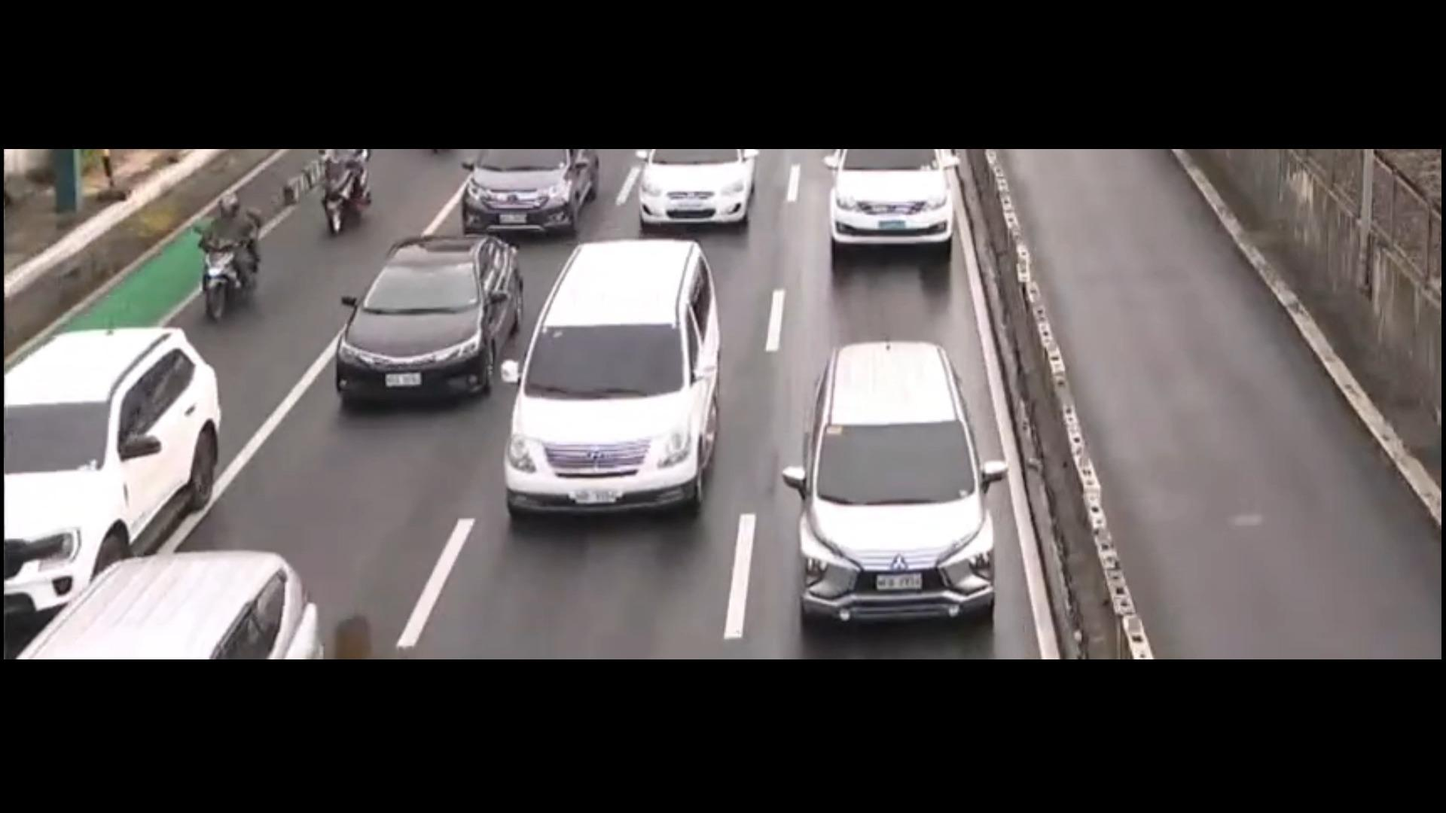Motorcycle: (181, 186, 262, 320), (313, 149, 378, 228)
SUV: (772, 337, 1011, 630), (0, 329, 222, 614), (505, 239, 717, 525), (17, 559, 322, 661), (813, 149, 972, 254)
Sedan: (329, 237, 527, 410), (456, 147, 604, 233), (631, 149, 778, 230)
